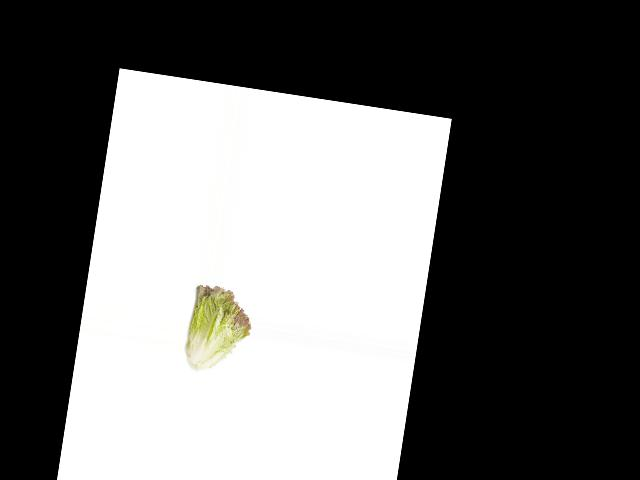lettuce: (183, 281, 255, 376)
